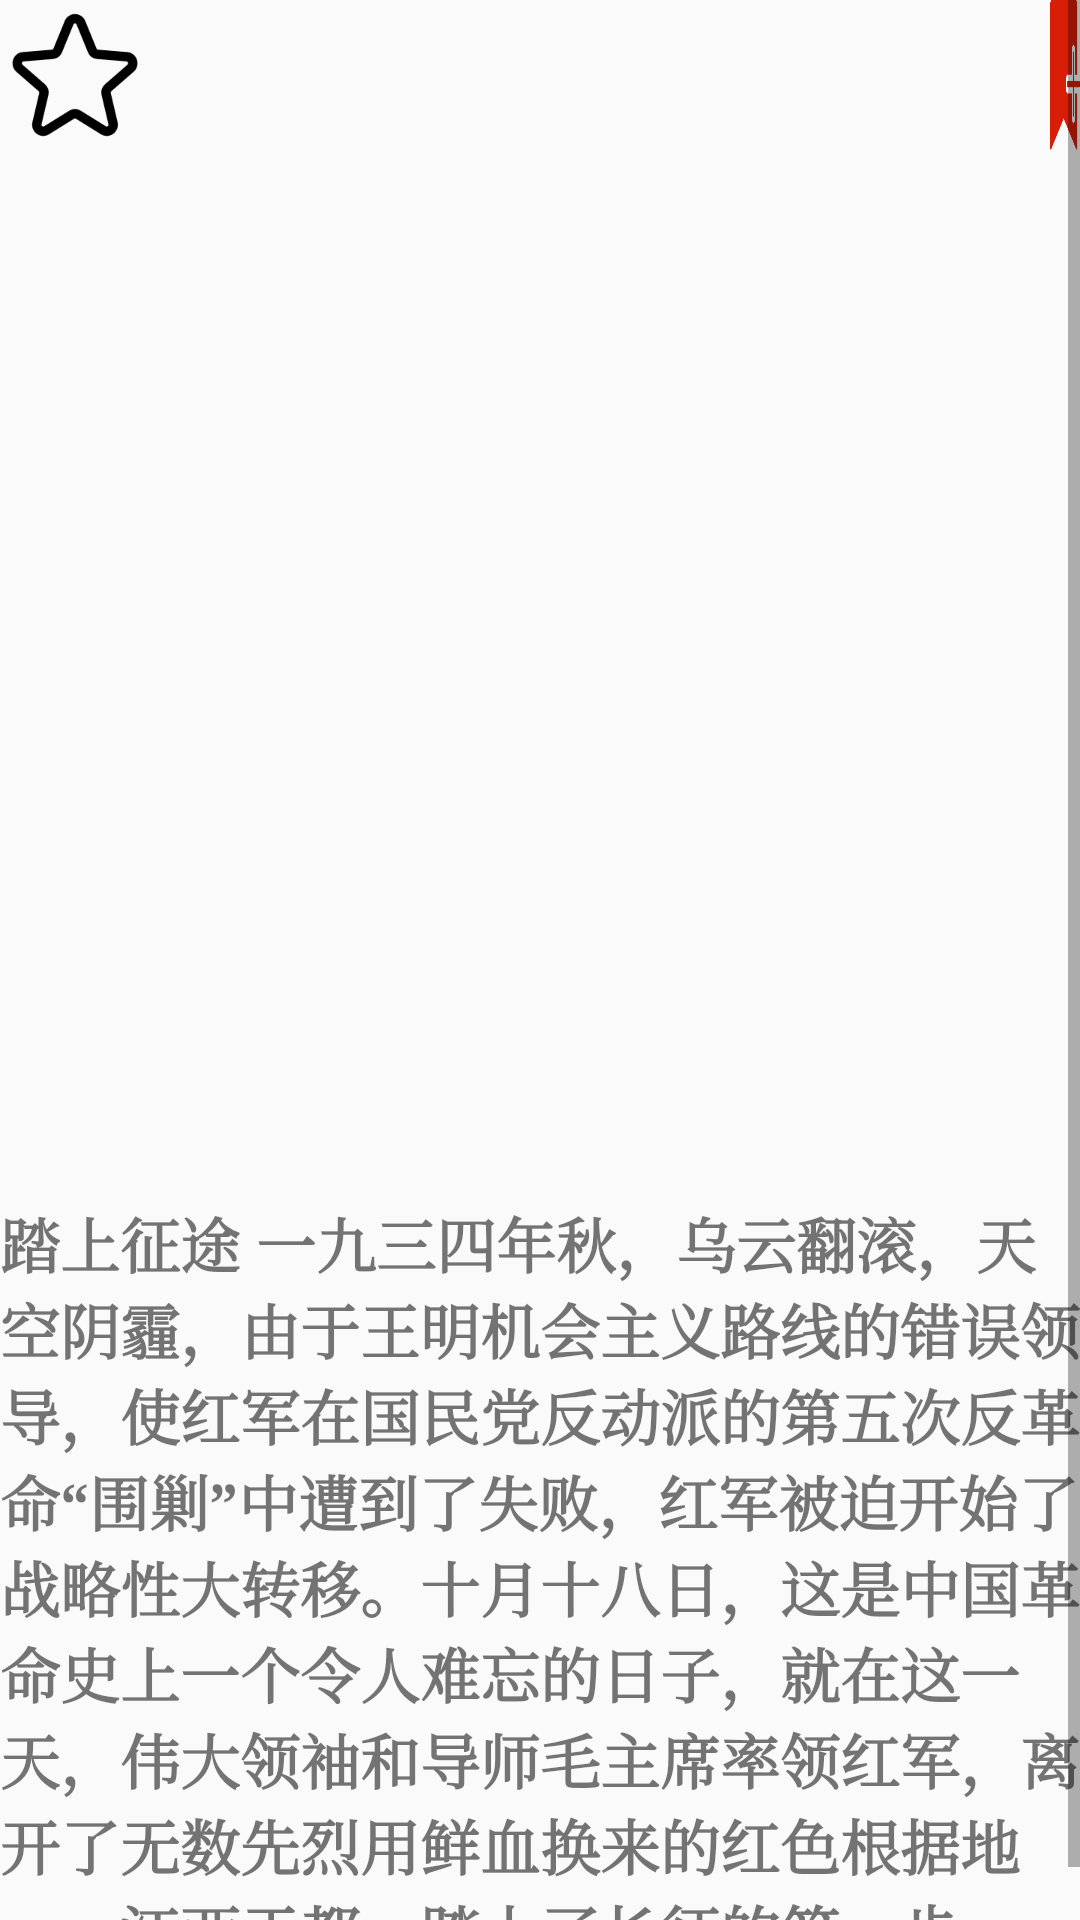

Icons on this 1080*1920 Android screen, each with the point to tap as (x=x, y=y):
addmark: (x=1065, y=75)
uncollect: (x=75, y=75)
